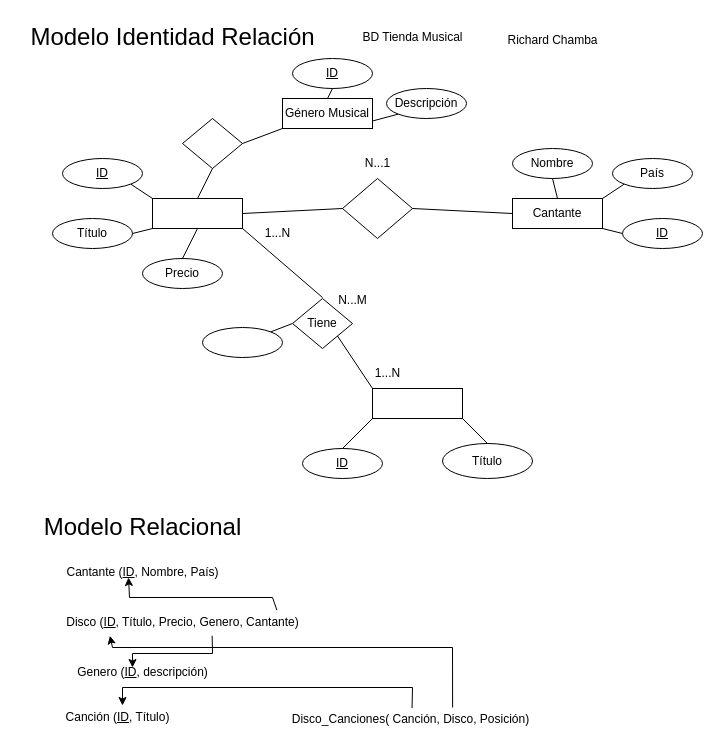
The diagram is 720 pixels wide and 751 high, and some of its shapes have lost their labels. Here are the shapes that lost their labels. From the top down, the centre of each, then its label:
(x=212, y=143): Contiene
(x=197, y=213): Disco
(x=377, y=208): Pertenece
(x=242, y=342): Posición
(x=417, y=403): Canciones
